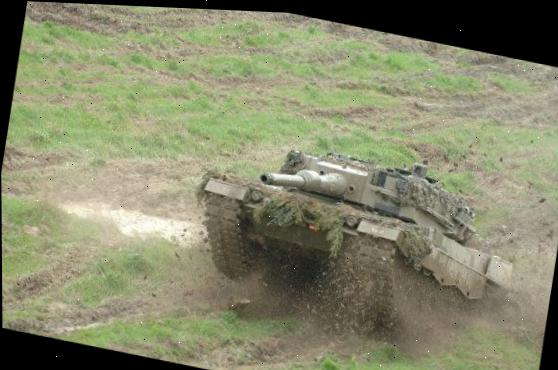tank: (183, 117, 527, 361)
